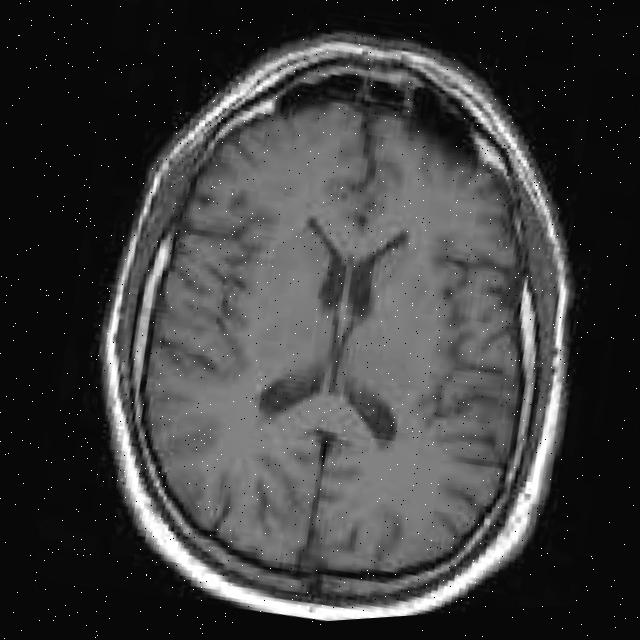NoTumor: (21, 0, 640, 639)
